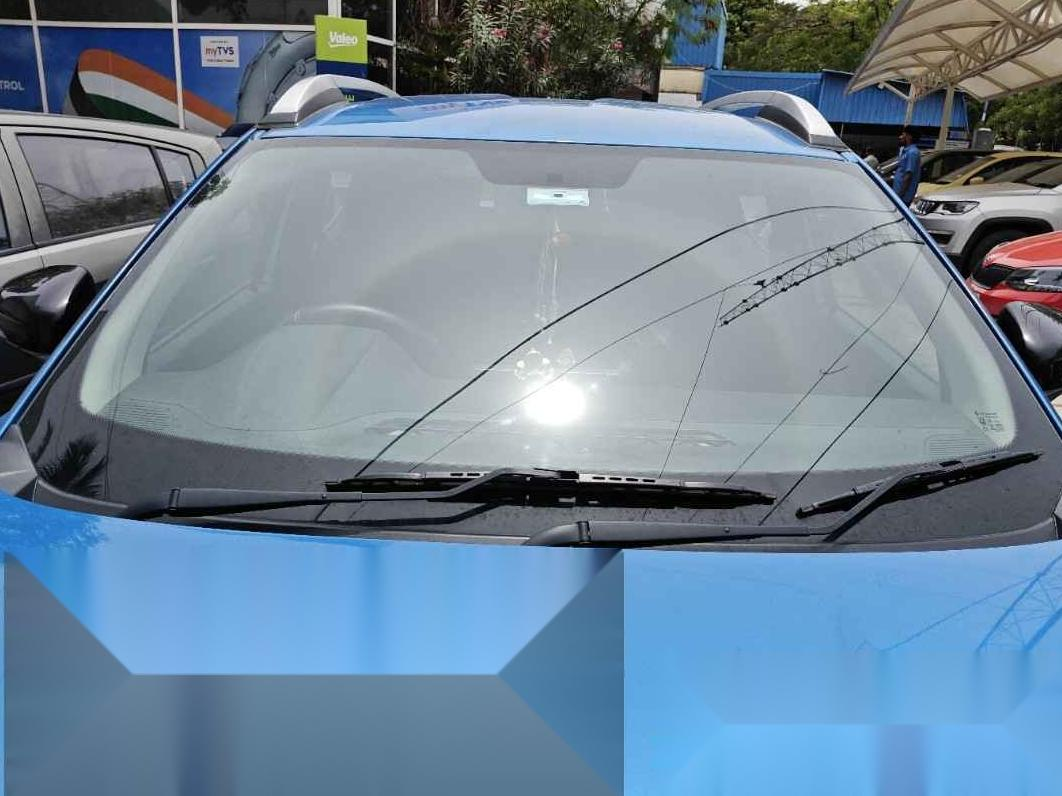FastTag: (513, 171, 607, 220)
